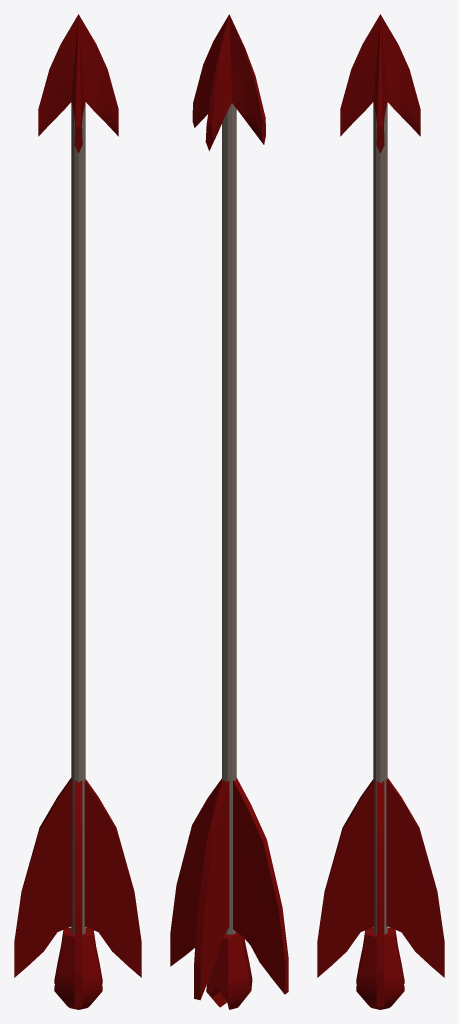
File: Explosive.fbx
The picture shows the model from 3 angles, left to right: view 1: azimuth 90°, elevation 25°; view 2: azimuth 150°, elevation 25°; view 3: azimuth 270°, elevation 25°; orthographic projection.
Visible parts, largest first — view 1: pCylinder1, pCube7, pCube5, pasted__pCube2, pCylinder3, pCube4, pCube2; view 2: pCylinder1, pCube4, pCube7, pCube6, pCube2, pCylinder3, pasted__pCube2; view 3: pCylinder1, pCube7, pCube5, pasted__pCube2, pCylinder3, pCube6, pCube2.
Part boxes in pixels (x1,y1,x2,y2): pCylinder1: (71, 102, 85, 934); pCube7: (14, 778, 72, 977); pCube5: (84, 779, 141, 977); pasted__pCube2: (38, 14, 118, 136); pCylinder3: (54, 927, 102, 1009); pCube4: (74, 780, 82, 1007); pCube2: (71, 15, 85, 153); pCylinder1: (222, 103, 236, 934); pCube4: (233, 778, 288, 994); pCube7: (194, 779, 229, 1000); pCube6: (170, 778, 221, 966); pCube2: (192, 14, 265, 144); pCylinder3: (206, 932, 252, 1009); pasted__pCube2: (205, 15, 231, 150); pCylinder1: (373, 102, 387, 934); pCube7: (386, 778, 444, 977); pCube5: (317, 779, 374, 977); pasted__pCube2: (340, 14, 420, 136); pCylinder3: (356, 927, 404, 1009); pCube6: (376, 781, 384, 1007); pCube2: (373, 15, 387, 153).
Size of the model in its own units: 0.8525 by 7.06 by 0.8196.
